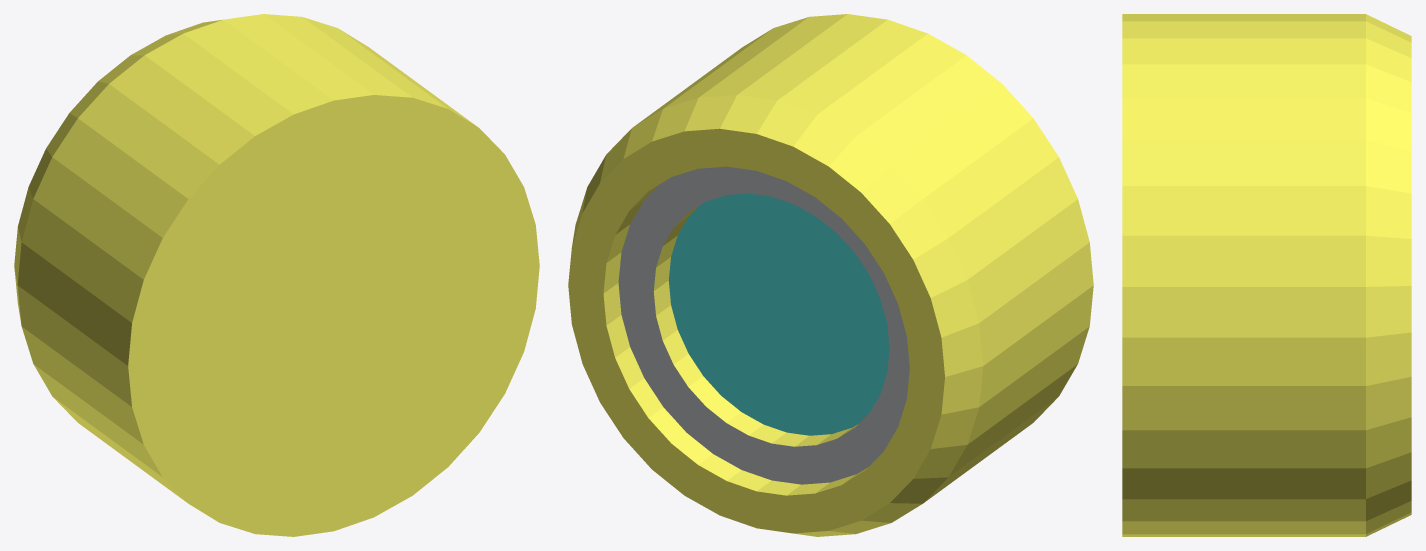
Rendered from Cylinder_Two.fbx.
3 views of the same model, side by side, from view 1: azimuth 30°, elevation 25°; view 2: azimuth 150°, elevation 25°; view 3: azimuth 270°, elevation 25° (orthographic). The views are drawn at different scales.
Visible parts, largest first — view 1: Cylinder_One; view 2: Cylinder_One; view 3: Cylinder_One.
Part boxes in pixels (box(x1,y1,x2,y2)): Cylinder_One: box(14, 14, 539, 536); Cylinder_One: box(568, 14, 1093, 536); Cylinder_One: box(1122, 14, 1411, 536).
Bounding box in the file's own units: 475 × 475 × 262.
